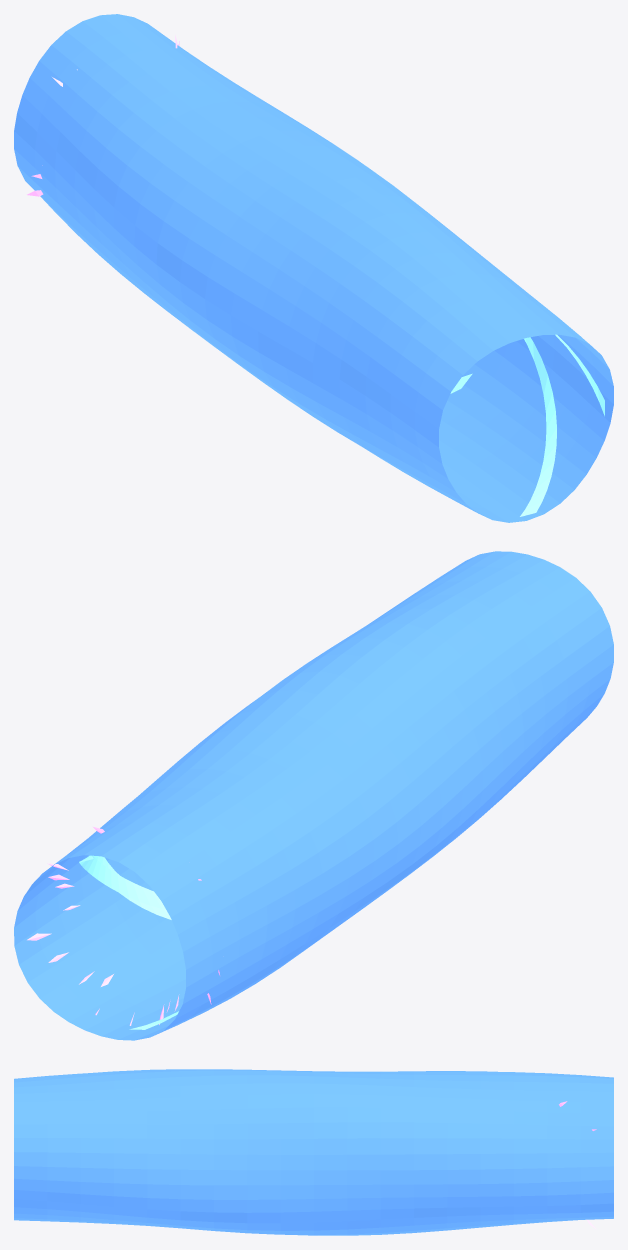
File: dimensional-transit.glb
3 views of the same model, one above another, from view 1: azimuth 30°, elevation 25°; view 2: azimuth 150°, elevation 25°; view 3: azimuth 270°, elevation 25° (orthographic). The views are drawn at different scales.
Parts seen in each view (by area): view 1: TRANSIT_CAUSTIC_SHELL, TRANSIT_FLOW_RIBBONS; view 2: TRANSIT_CAUSTIC_SHELL, TRANSIT_FLOW_RIBBONS, TRANSIT_EXIT_SHARDS; view 3: TRANSIT_CAUSTIC_SHELL.
Part boxes in pixels (x1=…): TRANSIT_CAUSTIC_SHELL: x1=14, y1=14, x2=613, y2=522; TRANSIT_FLOW_RIBBONS: x1=450, y1=334, x2=604, y2=516; TRANSIT_CAUSTIC_SHELL: x1=14, y1=551, x2=613, y2=1040; TRANSIT_FLOW_RIBBONS: x1=79, y1=855, x2=178, y2=1029; TRANSIT_EXIT_SHARDS: x1=27, y1=827, x2=219, y2=1031; TRANSIT_CAUSTIC_SHELL: x1=14, y1=1069, x2=613, y2=1235.
Size of what is drawn, in the model's own units: 48.7 by 48.4 by 172.
